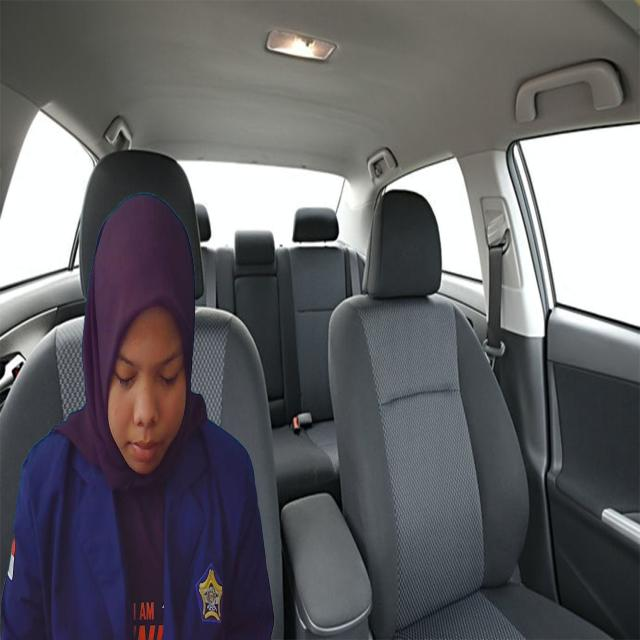no-seatbelt: (104, 285, 190, 475)
